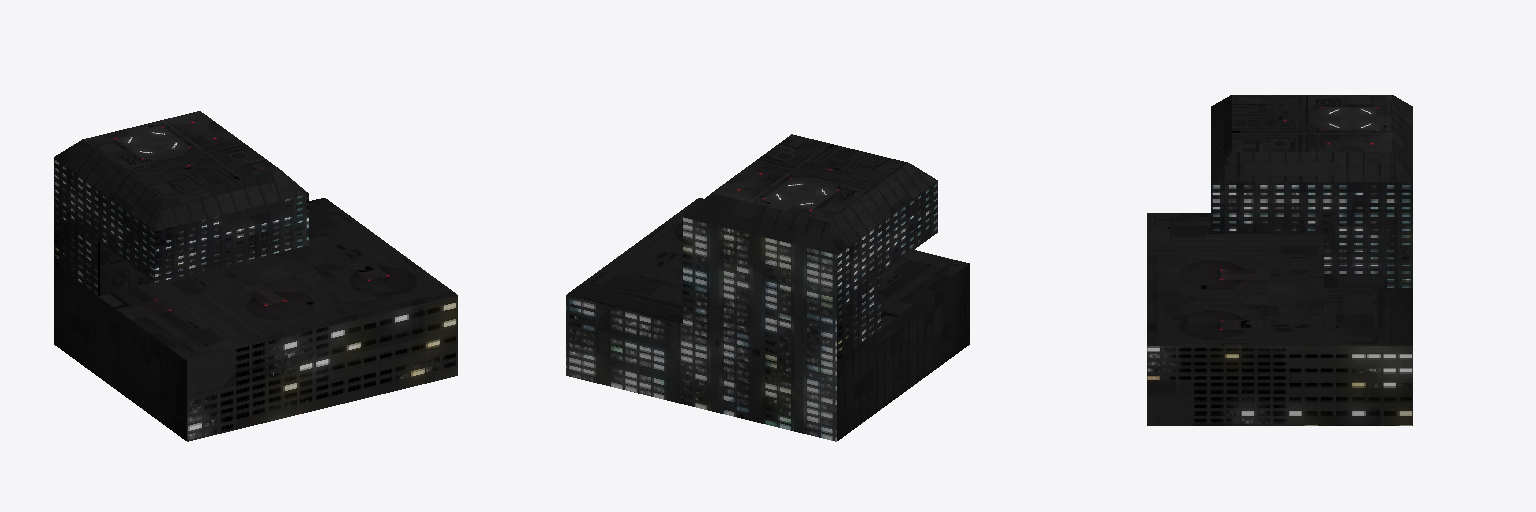
The picture shows the model from 3 angles: view 1: azimuth 30°, elevation 25°; view 2: azimuth 150°, elevation 25°; view 3: azimuth 270°, elevation 25°; orthographic projection.
Visible parts, largest first — view 1: building_49; view 2: building_49; view 3: building_49.
Boxes of the visible parts, box(x1,y1,x2,y2) form: building_49: box(54, 111, 457, 441); building_49: box(566, 134, 969, 441); building_49: box(1147, 95, 1412, 425).
Size of the model in its own units: 107 by 78.67 by 91.47.
Materials: 1 (1 with a texture image).